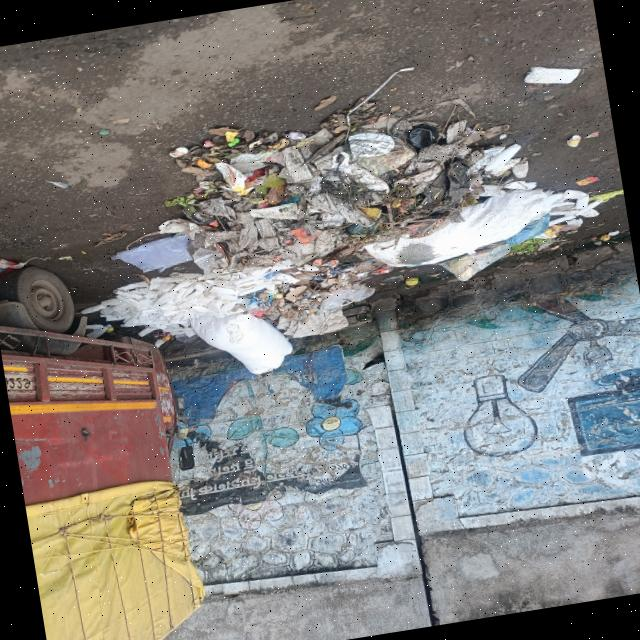garbage: (116, 98, 570, 363)
